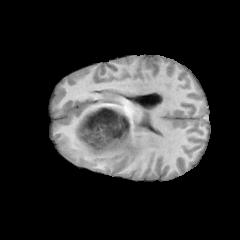glioma: (53, 90, 150, 171)
